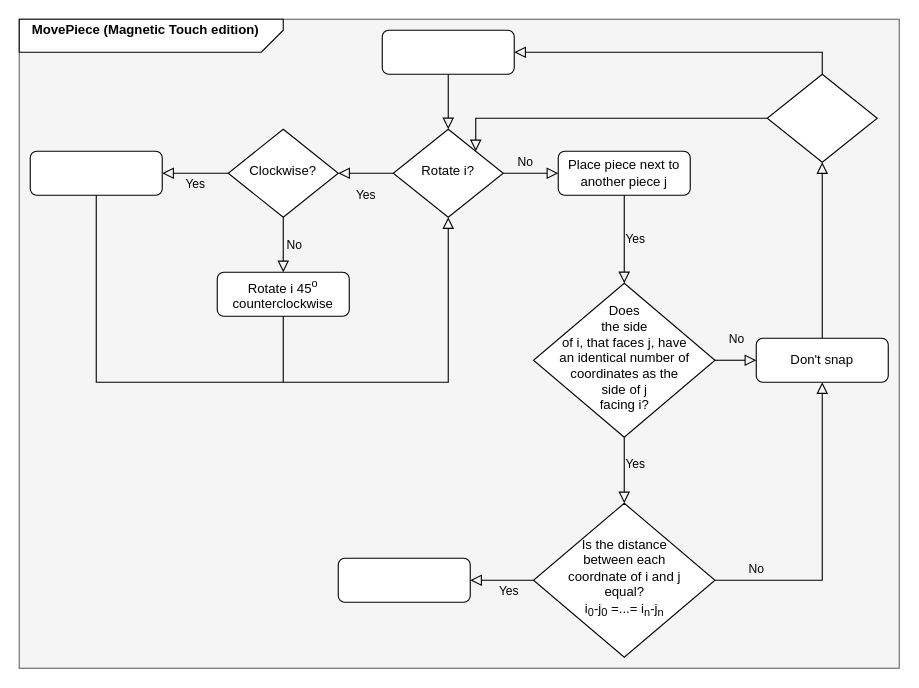
Image size: 919x688. Some labels were removed from this diagram. Here are the shapes that lost their labels. From the top down, the centre of each, then its label:
At (447,51): "Select piece i".
At (821,117): "What next?".
At (95,172): "Rotate i 45 o clockwise".
At (403,579): "Snap i to j".
